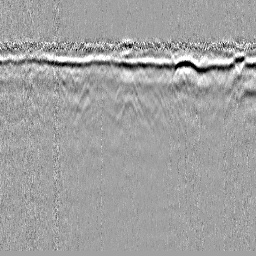cavity: (115, 92, 139, 122)
